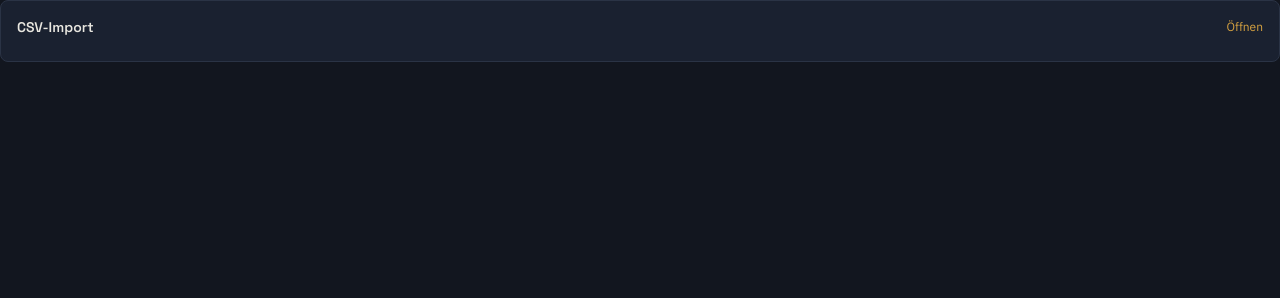
it: CsvImport › zeigt die Felder erst nach dem Aufklappen
The image size is (1280, 298).
Expected: the field labelled "CSV-Inhalt" is not shown
Click the button "Öffnen".
click(1245, 27)  # box left=1226, top=19, right=1263, bottom=35
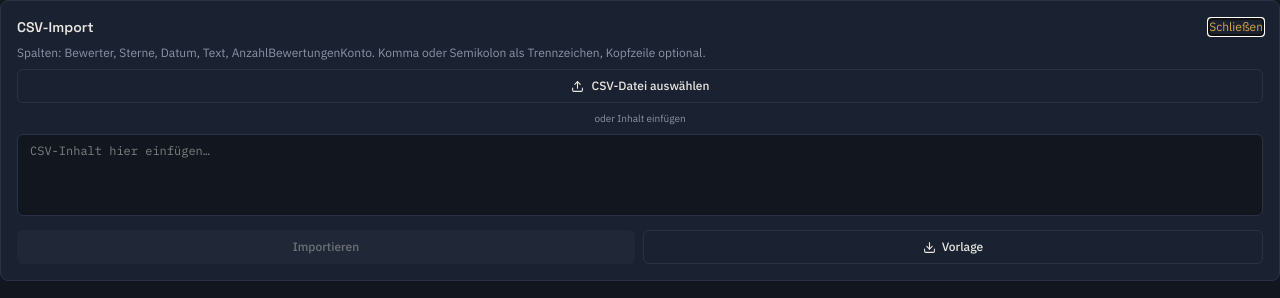
Expected: the text box labelled "CSV-Inhalt hier einfügen…" is shown, left=17, top=134, right=1263, bottom=216
